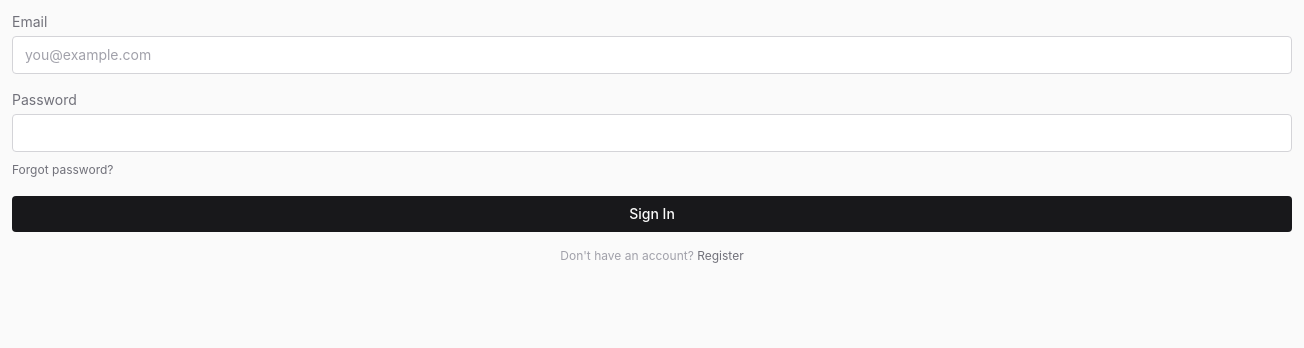
LoginForm › maps email_not_confirmed to its own message
Type "me@example.com" into the field labelled "Email" at (652, 55), box x1=12 y1=36 x2=1292 y2=74
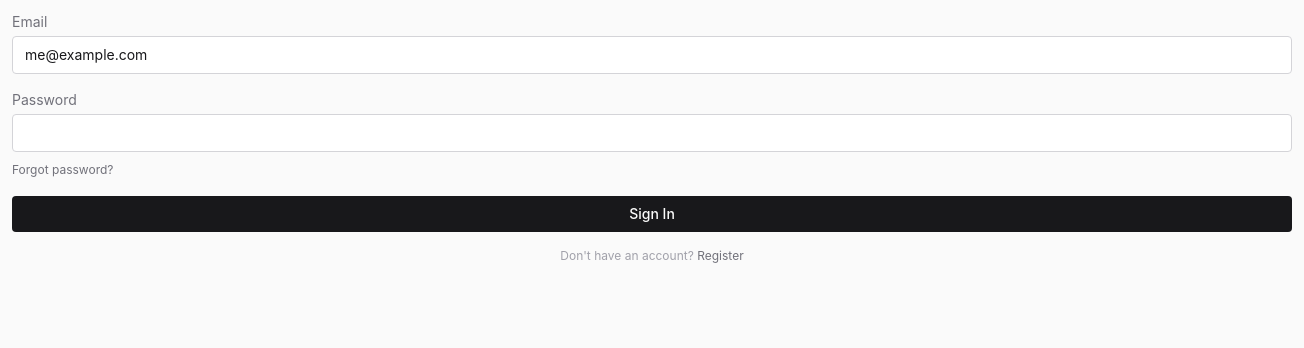
Type "secret123" into the password field labelled "Password" at (652, 133), box x1=12 y1=114 x2=1292 y2=152
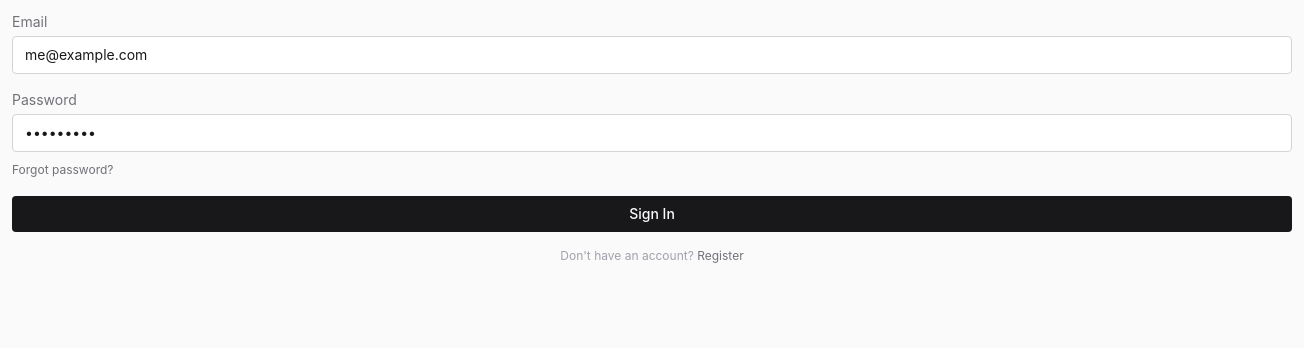
Click the button "Sign In" at (652, 214), box x1=12 y1=196 x2=1292 y2=232
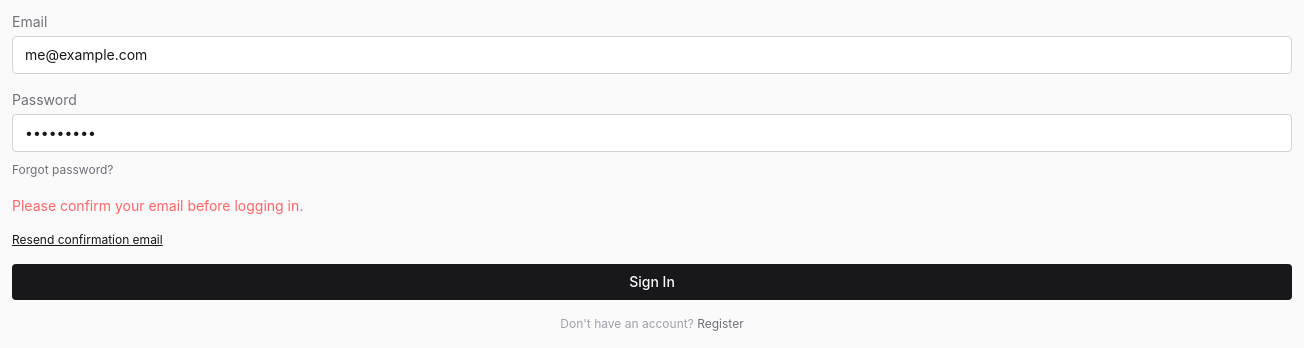
Result: the text "Please confirm your email before logging in." is shown at x1=12 y1=197 x2=303 y2=214
